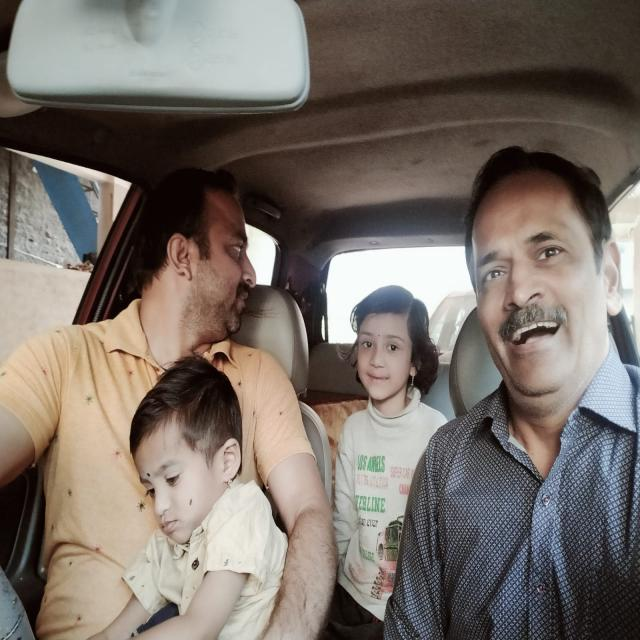child: (119, 359, 257, 553), (343, 262, 434, 434)
person: (457, 148, 636, 423), (143, 162, 265, 346)
